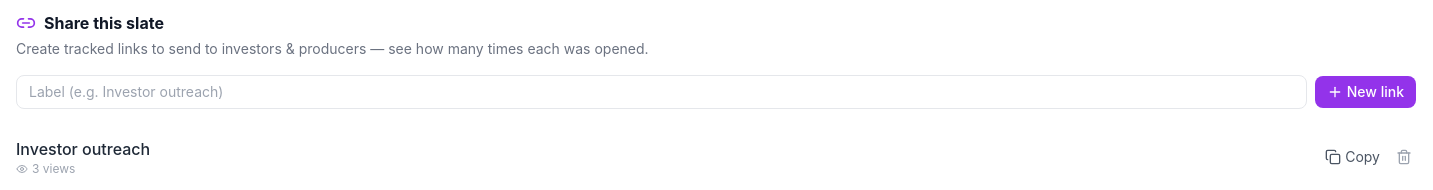
Test: SlateShareLinks › revokes a link and reloads
Expected: the text "Investor outreach" is shown, x1=16 y1=137 x2=150 y2=161
Step 1. Click the button named "revoke link" → (1404, 157), box x1=1392 y1=145 x2=1416 y2=169
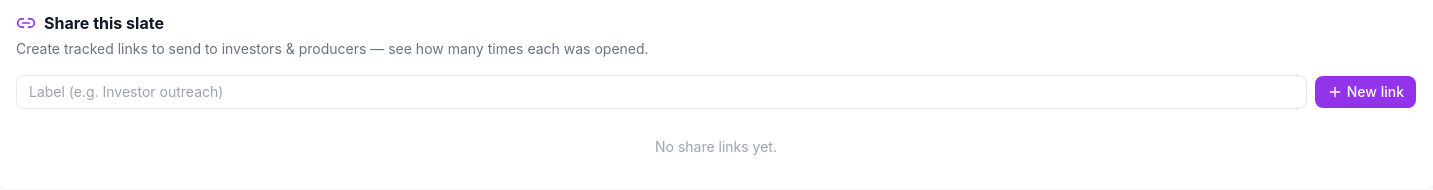
Result: the text "No share links yet." is shown at x1=655 y1=138 x2=777 y2=155
